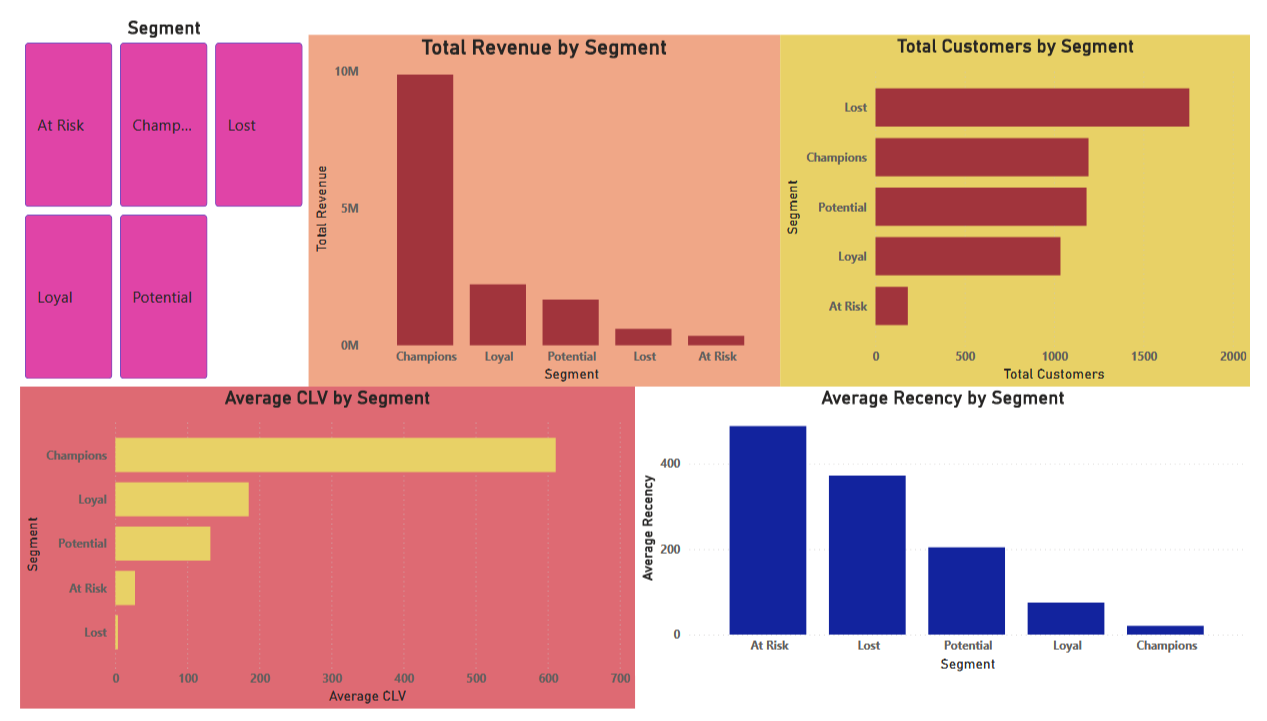

What the dashboard file says about the page in this screenshot:
{"tool":"powerbi","page":{"name":"Overview","canvas":[1280,720],"ordinal":0},"visuals":[{"type":"clusteredColumnChart","fields":{"Y":["rfm_clv_output.Total Revenue"],"Category":["rfm_clv_output.Segment"]},"box":[299.6,19.4,491,365.7],"z":0},{"type":"clusteredBarChart","fields":{"Category":["rfm_clv_output.Segment"],"Y":["rfm_clv_output.Total Customers"]},"box":[790.6,19.4,489.9,365.7],"z":1000},{"type":"clusteredBarChart","fields":{"Category":["rfm_clv_output.Segment"],"Y":["rfm_clv_output.Average CLV"]},"box":[0,385.1,640.3,334.9],"z":2000},{"type":"columnChart","fields":{"Y":["rfm_clv_output.Average Recency"],"Category":["rfm_clv_output.Segment"]},"box":[640.3,385.1,640.3,300.8],"z":3000},{"type":"advancedSlicerVisual","fields":{"Values":["rfm_clv_output.Segment"]},"box":[0,0,299.6,385.1],"z":4000}]}

Visuals, with their boxes in screenshot pixels (x1, y1, x2, y2), scaled from the page's 1280x720 canvas onto the 1267x721 screenshot:
clusteredColumnChart - rfm_clv_output.Total Revenue x rfm_clv_output.Segment: (left=297, top=19, right=783, bottom=386)
clusteredBarChart - rfm_clv_output.Segment x rfm_clv_output.Total Customers: (left=783, top=19, right=1266, bottom=386)
clusteredBarChart - rfm_clv_output.Segment x rfm_clv_output.Average CLV: (left=0, top=386, right=634, bottom=720)
columnChart - rfm_clv_output.Average Recency x rfm_clv_output.Segment: (left=634, top=386, right=1266, bottom=687)
advancedSlicerVisual - rfm_clv_output.Segment: (left=0, top=0, right=297, bottom=386)
